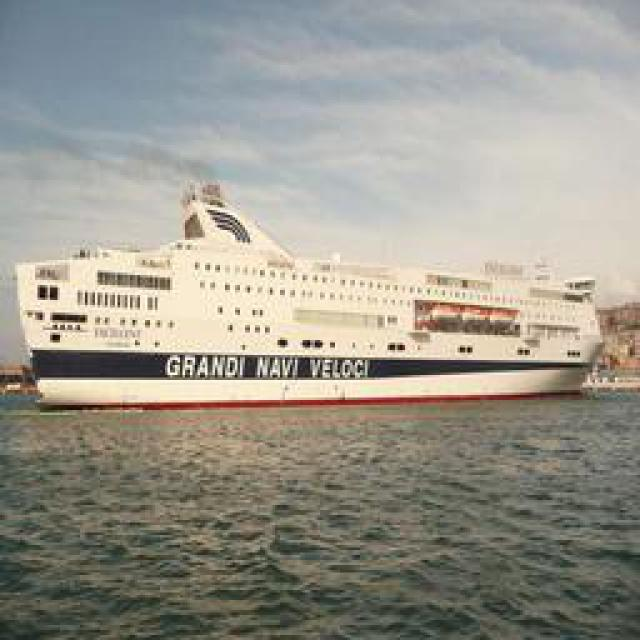Ship: (16, 183, 614, 408)
